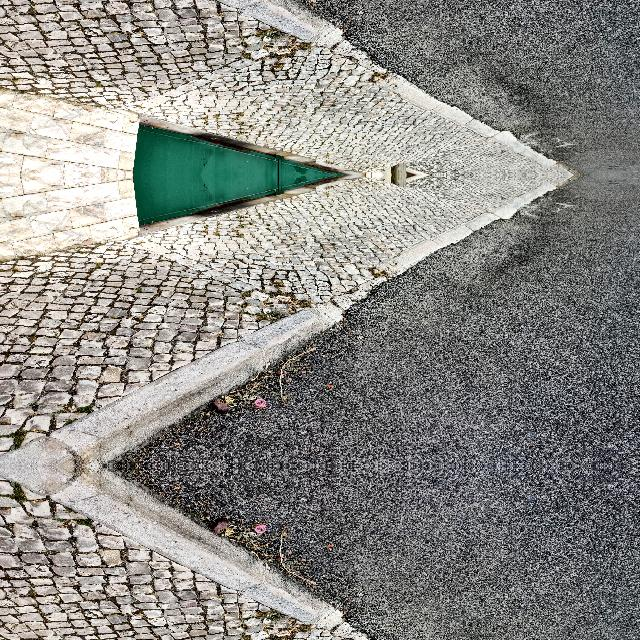Plastic: (253, 522, 267, 534), (253, 398, 267, 408)
